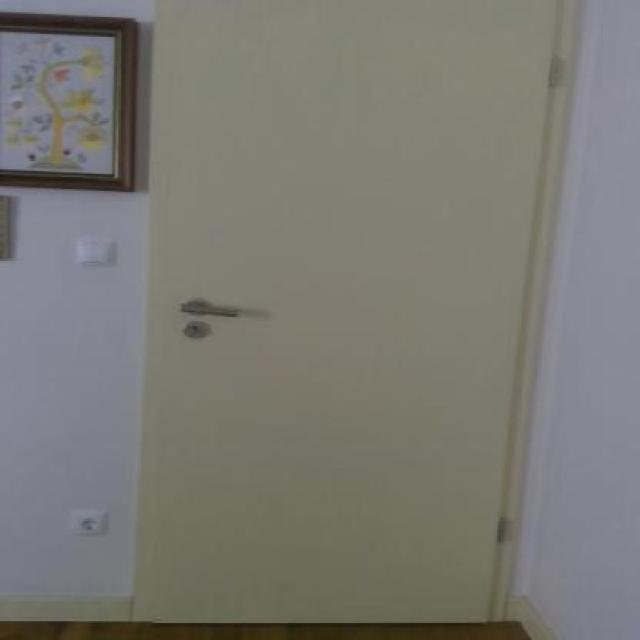door_handle: (169, 296, 250, 322)
